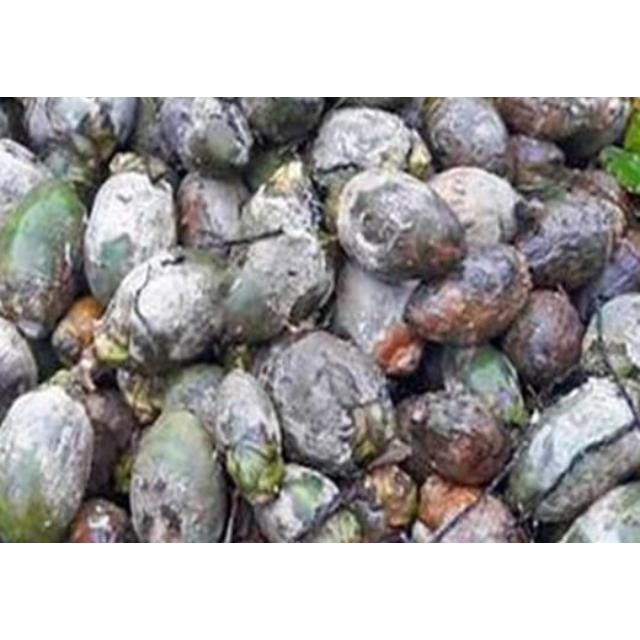damaged: (252, 327, 394, 481), (95, 244, 228, 362), (332, 169, 464, 283), (0, 382, 94, 542), (402, 242, 534, 350), (216, 223, 332, 345), (127, 408, 227, 542), (80, 168, 176, 306), (397, 386, 518, 488), (514, 188, 620, 294), (308, 105, 424, 197), (21, 98, 137, 186), (235, 158, 328, 258), (499, 286, 585, 394), (423, 165, 527, 253), (250, 461, 346, 544), (154, 98, 256, 176), (438, 344, 526, 434), (419, 97, 513, 175), (414, 482, 530, 542), (173, 169, 250, 257), (146, 363, 230, 441), (0, 313, 40, 433), (235, 98, 327, 148), (562, 166, 634, 228)
